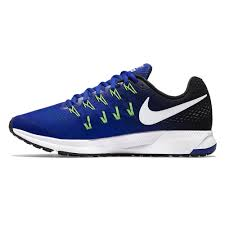nike: (136, 95, 205, 125)
